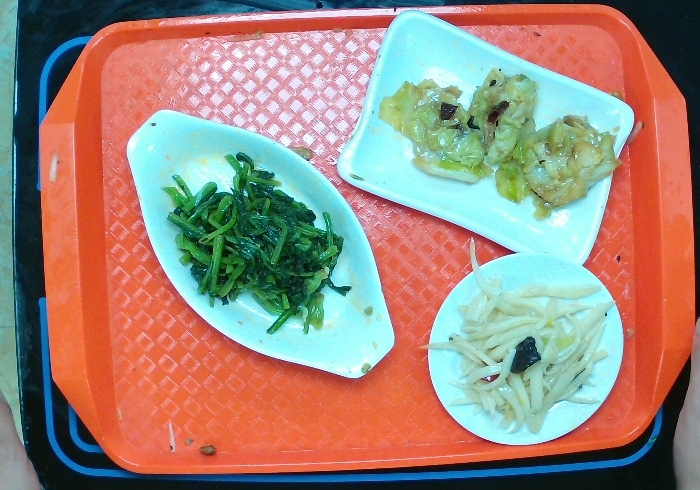RJxy-Si_Fang_Ao_Bian_Wan: (333, 7, 639, 270)
RJxy-Xiao_Yuan_Die: (418, 239, 632, 449)
RJxy-Yu_Pan: (127, 107, 396, 380)
